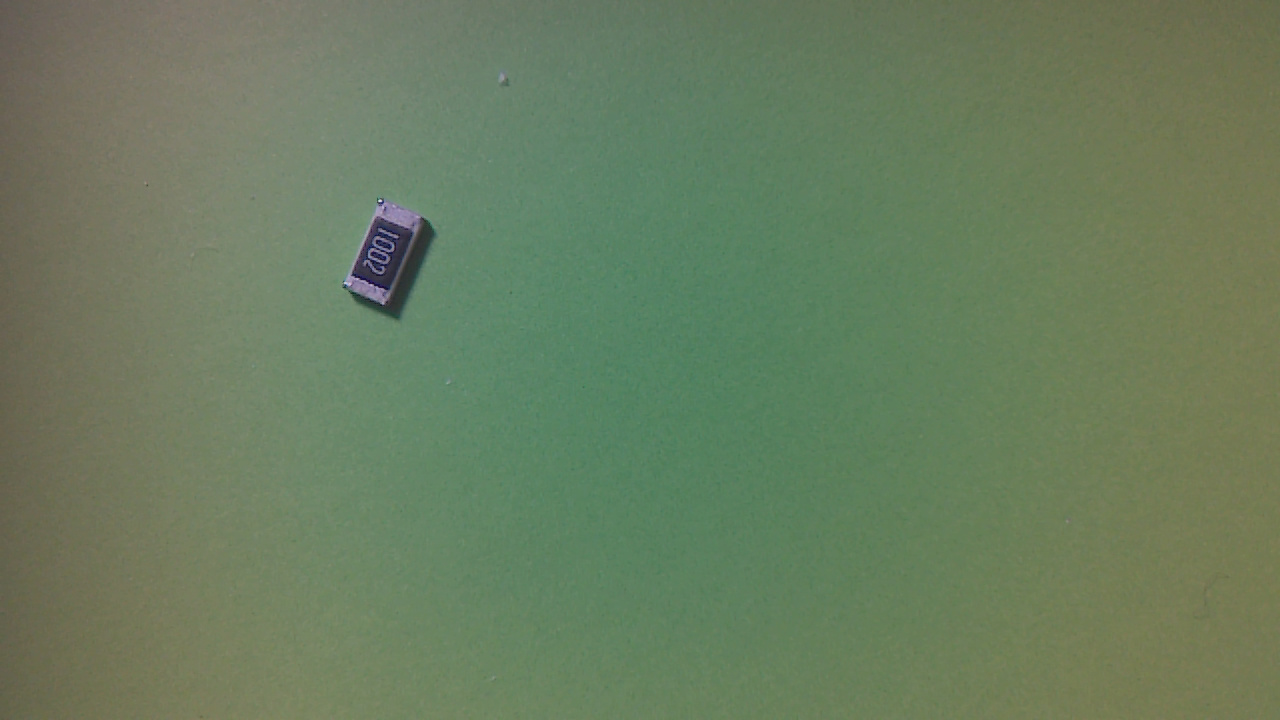Resistor: (344, 200, 436, 319)
